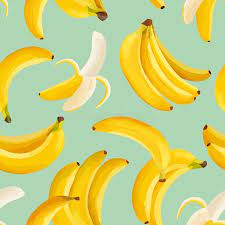banana: (117, 17, 213, 114), (39, 28, 115, 116), (128, 145, 206, 225), (49, 150, 132, 225), (89, 117, 172, 180), (1, 44, 56, 128), (1, 116, 68, 179)
